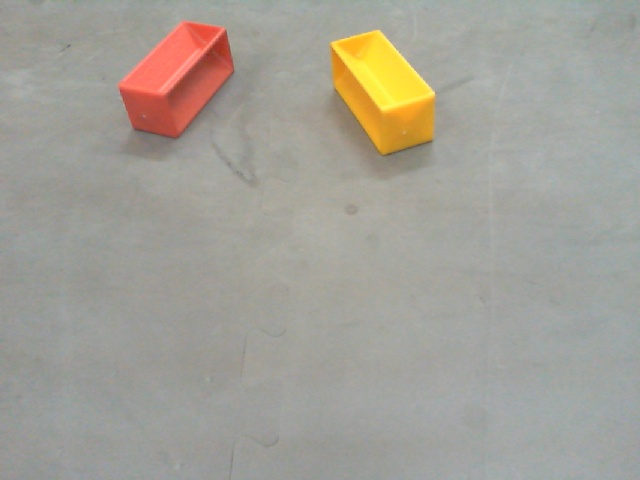RedSample: (121, 20, 238, 137)
YellowSample: (328, 27, 442, 158)
